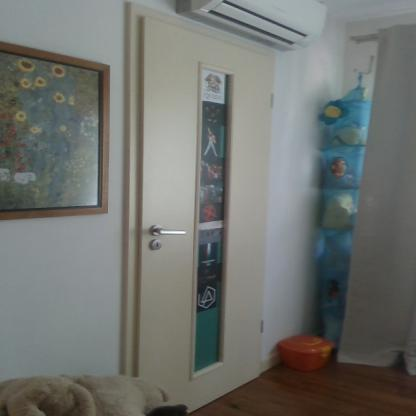door: (140, 17, 268, 413)
hinged: (268, 91, 275, 108), (259, 318, 264, 335)
lever: (154, 228, 190, 236)
